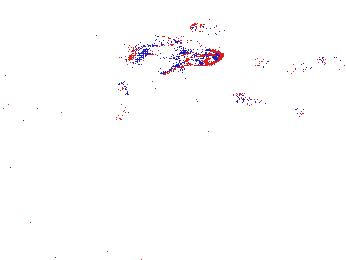X-ray fish: (74, 144, 138, 180), (110, 81, 133, 122)
red belly glassfish: (188, 17, 236, 36)
redtail glassfish: (233, 90, 313, 128), (124, 40, 224, 67), (118, 50, 184, 87), (258, 52, 318, 80), (315, 47, 346, 77)
